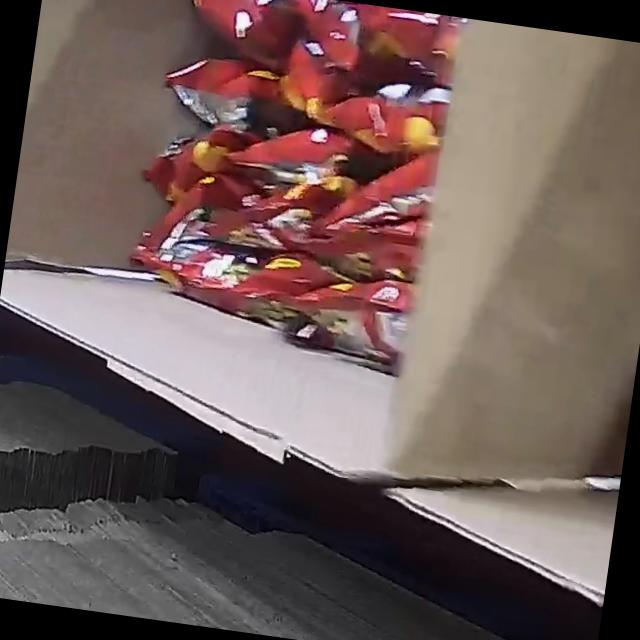masala: (116, 0, 467, 369)
